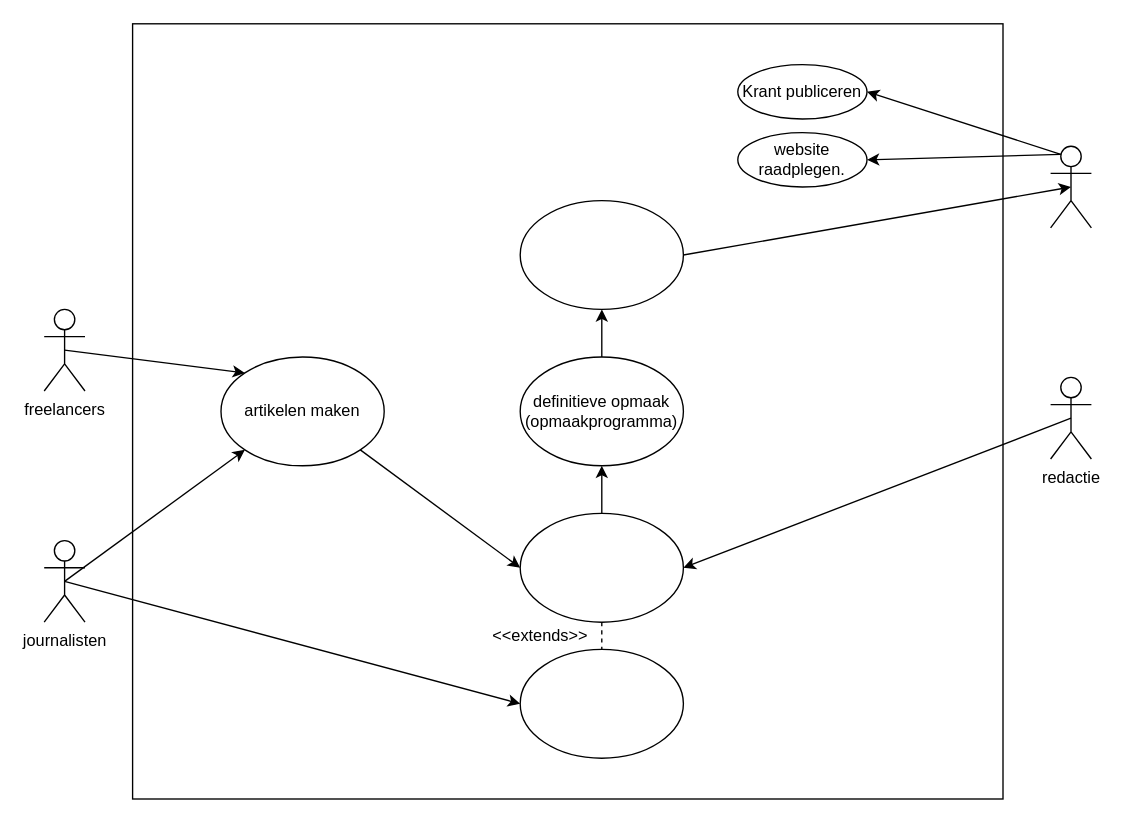
Some shapes in this 1129 by 823 pixel diagram are drawn without their labels. The shapes that lost their labels are listed below. From the top down, each one's box as (x1, y1, x2, y2) in pixels, then its label:
(1049, 145, 1091, 228): Database
(519, 199, 683, 309): artikelen archiveeren
(519, 512, 683, 622): artikle contorleren
(519, 648, 683, 758): artikel aanpassen
